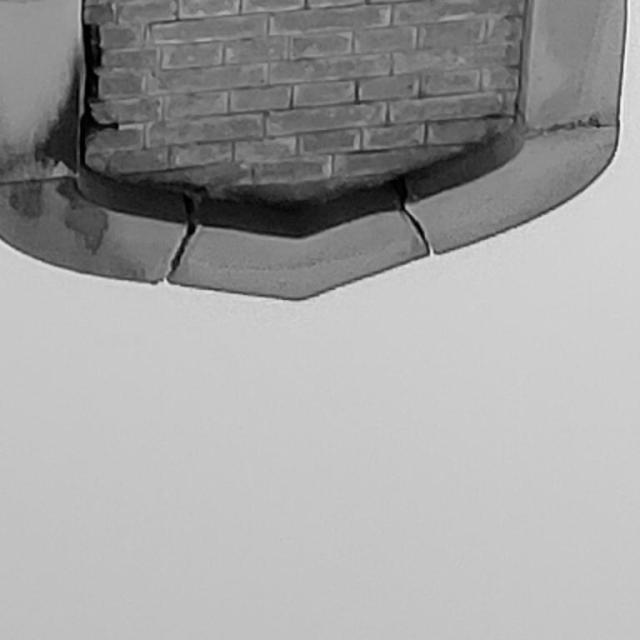crack: (81, 1, 120, 183)
